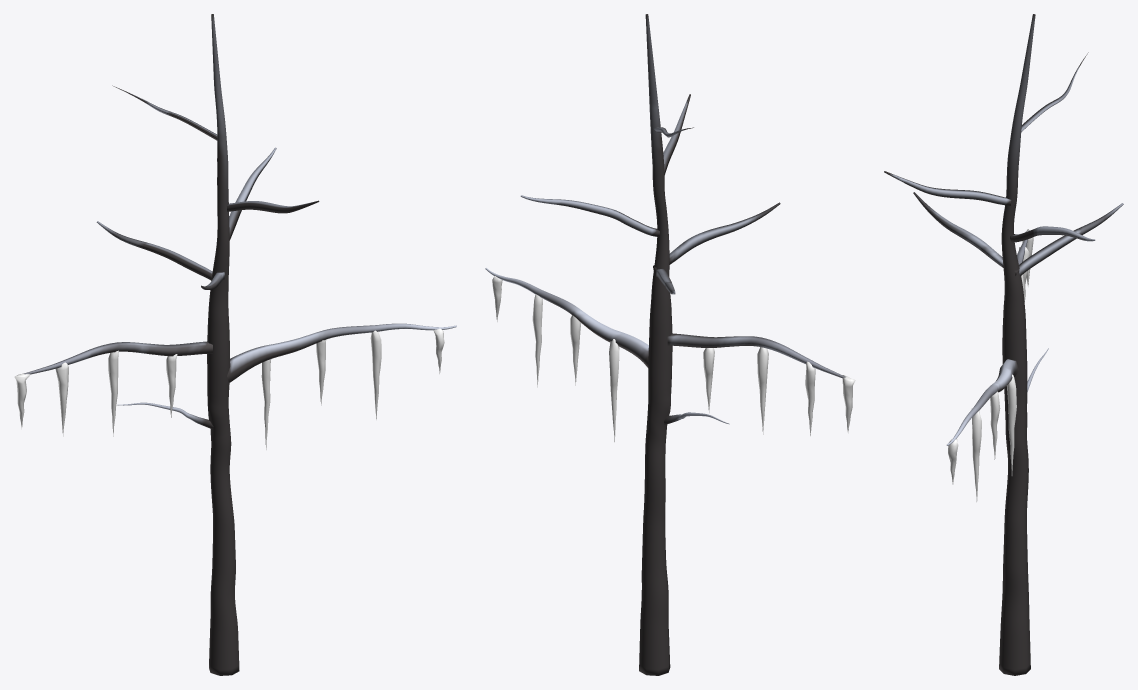
Rendered from icy tree.fbx.
The picture shows the model from 3 angles, left to right: view 1: azimuth 30°, elevation 25°; view 2: azimuth 150°, elevation 25°; view 3: azimuth 270°, elevation 25°; orthographic projection. The views are drawn at different scales.
Visible parts, largest first — view 1: Tube 9, Tube 6, Tube; view 2: Tube 9, Tube 6, Tube, Cylinder 4, Cylinder 2, Cylinder 7; view 3: Tube 9, Tube 6, Cylinder 4, Cylinder 7, Cylinder 5.
Part boxes in pixels (x1=…): Tube 9: x1=96, y1=14, x2=319, y2=675; Tube 6: x1=227, y1=323, x2=456, y2=382; Tube: x1=24, y1=341, x2=212, y2=374; Tube 9: x1=520, y1=14, x2=780, y2=675; Tube 6: x1=485, y1=268, x2=648, y2=367; Tube: x1=667, y1=333, x2=845, y2=378; Cylinder 4: x1=609, y1=339, x2=619, y2=442; Cylinder 2: x1=757, y1=347, x2=768, y2=434; Cylinder 7: x1=532, y1=294, x2=542, y2=387; Tube 9: x1=884, y1=14, x2=1123, y2=675; Tube 6: x1=946, y1=359, x2=1018, y2=445; Cylinder 4: x1=1007, y1=374, x2=1016, y2=475; Cylinder 7: x1=971, y1=409, x2=981, y2=501; Cylinder 5: x1=990, y1=391, x2=1000, y2=459.
Bounding box in the file's own units: 3.36 × 5.18 × 1.72.
11 materials, 1 textured.
